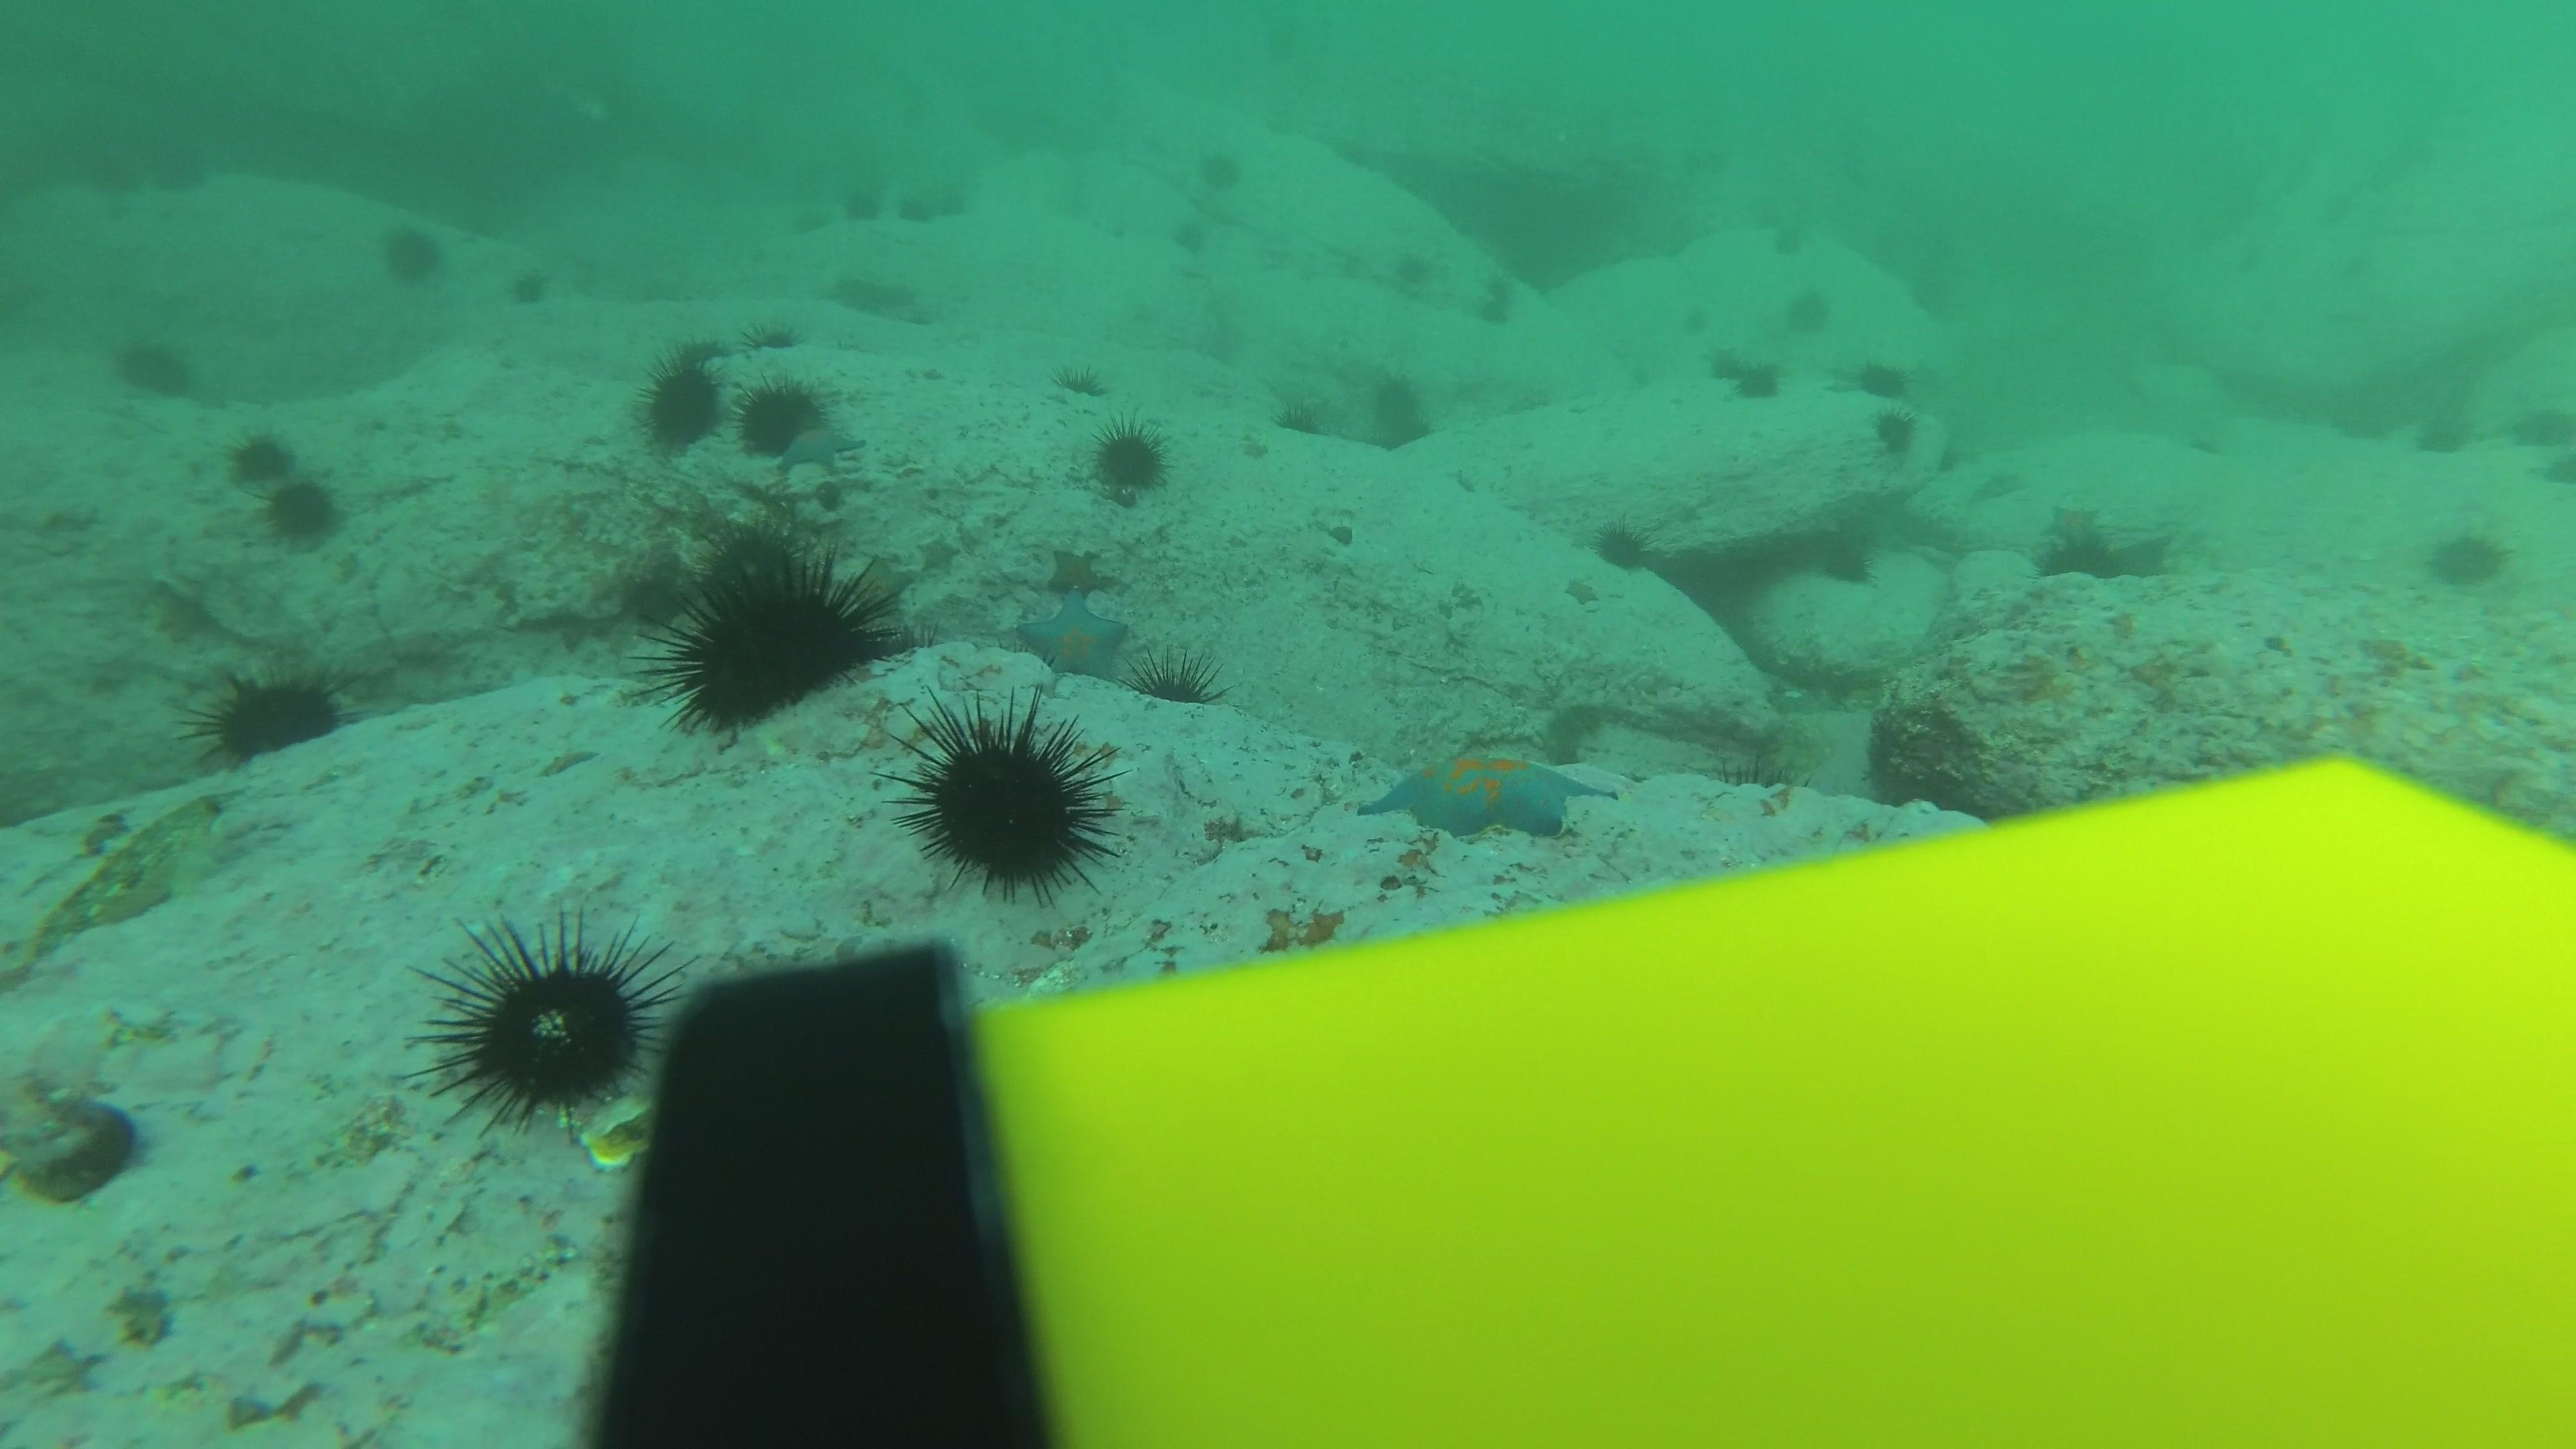echinus: (425, 911, 671, 1127), (649, 548, 899, 736), (897, 697, 1118, 901), (191, 665, 347, 770), (635, 349, 724, 453), (736, 373, 828, 458), (1085, 419, 1169, 502), (2422, 522, 2512, 594), (110, 329, 196, 402), (1132, 642, 1223, 709), (258, 471, 336, 547), (377, 218, 448, 288), (226, 425, 297, 488), (2035, 534, 2116, 589), (1362, 370, 1430, 425), (1591, 515, 1652, 573), (1725, 357, 1790, 412), (1824, 534, 1886, 586), (150, 152, 216, 200), (2512, 405, 2576, 453), (87, 156, 149, 203), (1868, 403, 1921, 458), (1044, 359, 1108, 400), (2413, 419, 2468, 465), (1270, 398, 1325, 441), (1200, 150, 1249, 195), (1251, 25, 1300, 69), (678, 326, 732, 364), (502, 269, 557, 308), (741, 320, 794, 357), (1166, 216, 1214, 253), (1863, 359, 1905, 398), (1785, 292, 1829, 329), (1396, 249, 1437, 287), (844, 189, 885, 223), (897, 198, 938, 228), (929, 186, 970, 216), (793, 207, 828, 239), (1684, 306, 1716, 336), (1711, 350, 1741, 380), (1484, 274, 1516, 303), (1775, 228, 1805, 255)
holothurian: (828, 267, 925, 311)
starfish: (1357, 743, 1624, 846), (1016, 591, 1134, 683), (840, 550, 915, 614), (780, 419, 863, 472), (2040, 497, 2114, 547), (1044, 543, 1104, 598), (913, 529, 964, 577), (1564, 577, 1598, 609)
